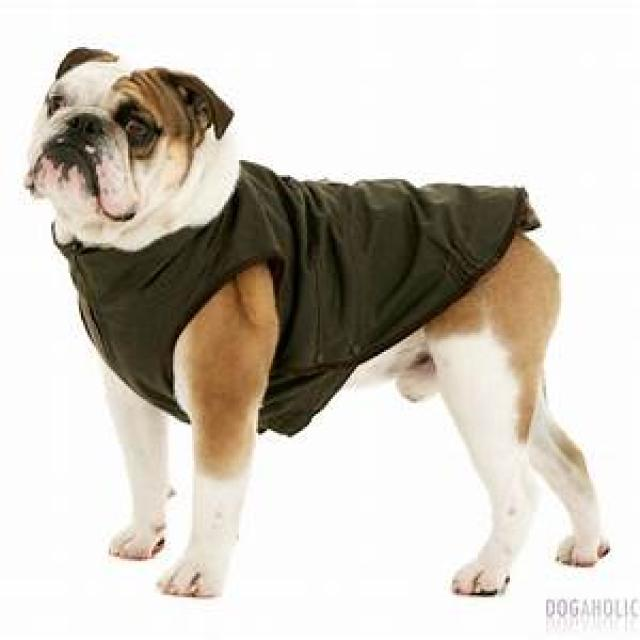dog: (23, 47, 610, 599)
